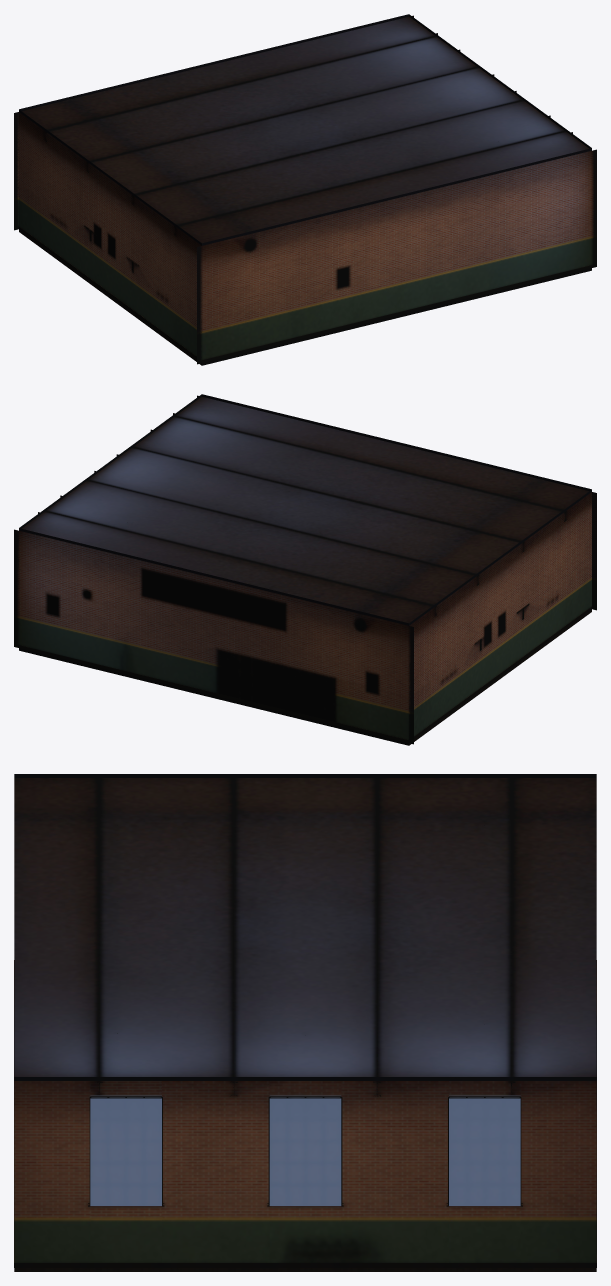
File: palestra.glb
The picture shows the model from 3 angles, top to bottom: view 1: azimuth 30°, elevation 25°; view 2: azimuth 150°, elevation 25°; view 3: azimuth 270°, elevation 25°; orthographic projection. The views are drawn at different scales.
Visible parts, largest first — view 1: Struttura; view 2: Struttura; view 3: Struttura.
Part boxes in pixels (x1=…): Struttura: x1=14, y1=14, x2=596, y2=365; Struttura: x1=14, y1=394, x2=596, y2=745; Struttura: x1=14, y1=774, x2=596, y2=1271.
Size of the model in its own units: 16.4 by 4.8 by 13.01.
2 materials, 2 textured.
